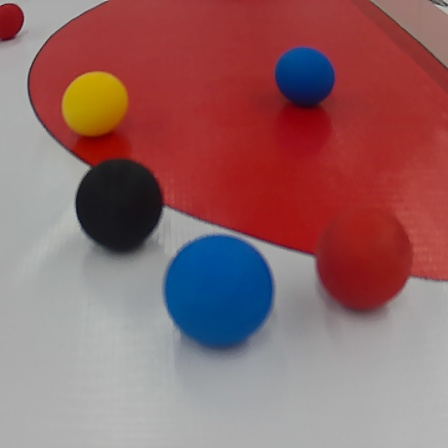black: (73, 158, 165, 250)
blue: (166, 235, 274, 355), (274, 47, 335, 106)
red: (318, 203, 411, 317), (0, 4, 25, 43)
red_base: (33, 0, 443, 290)
yellow: (61, 70, 128, 138)
